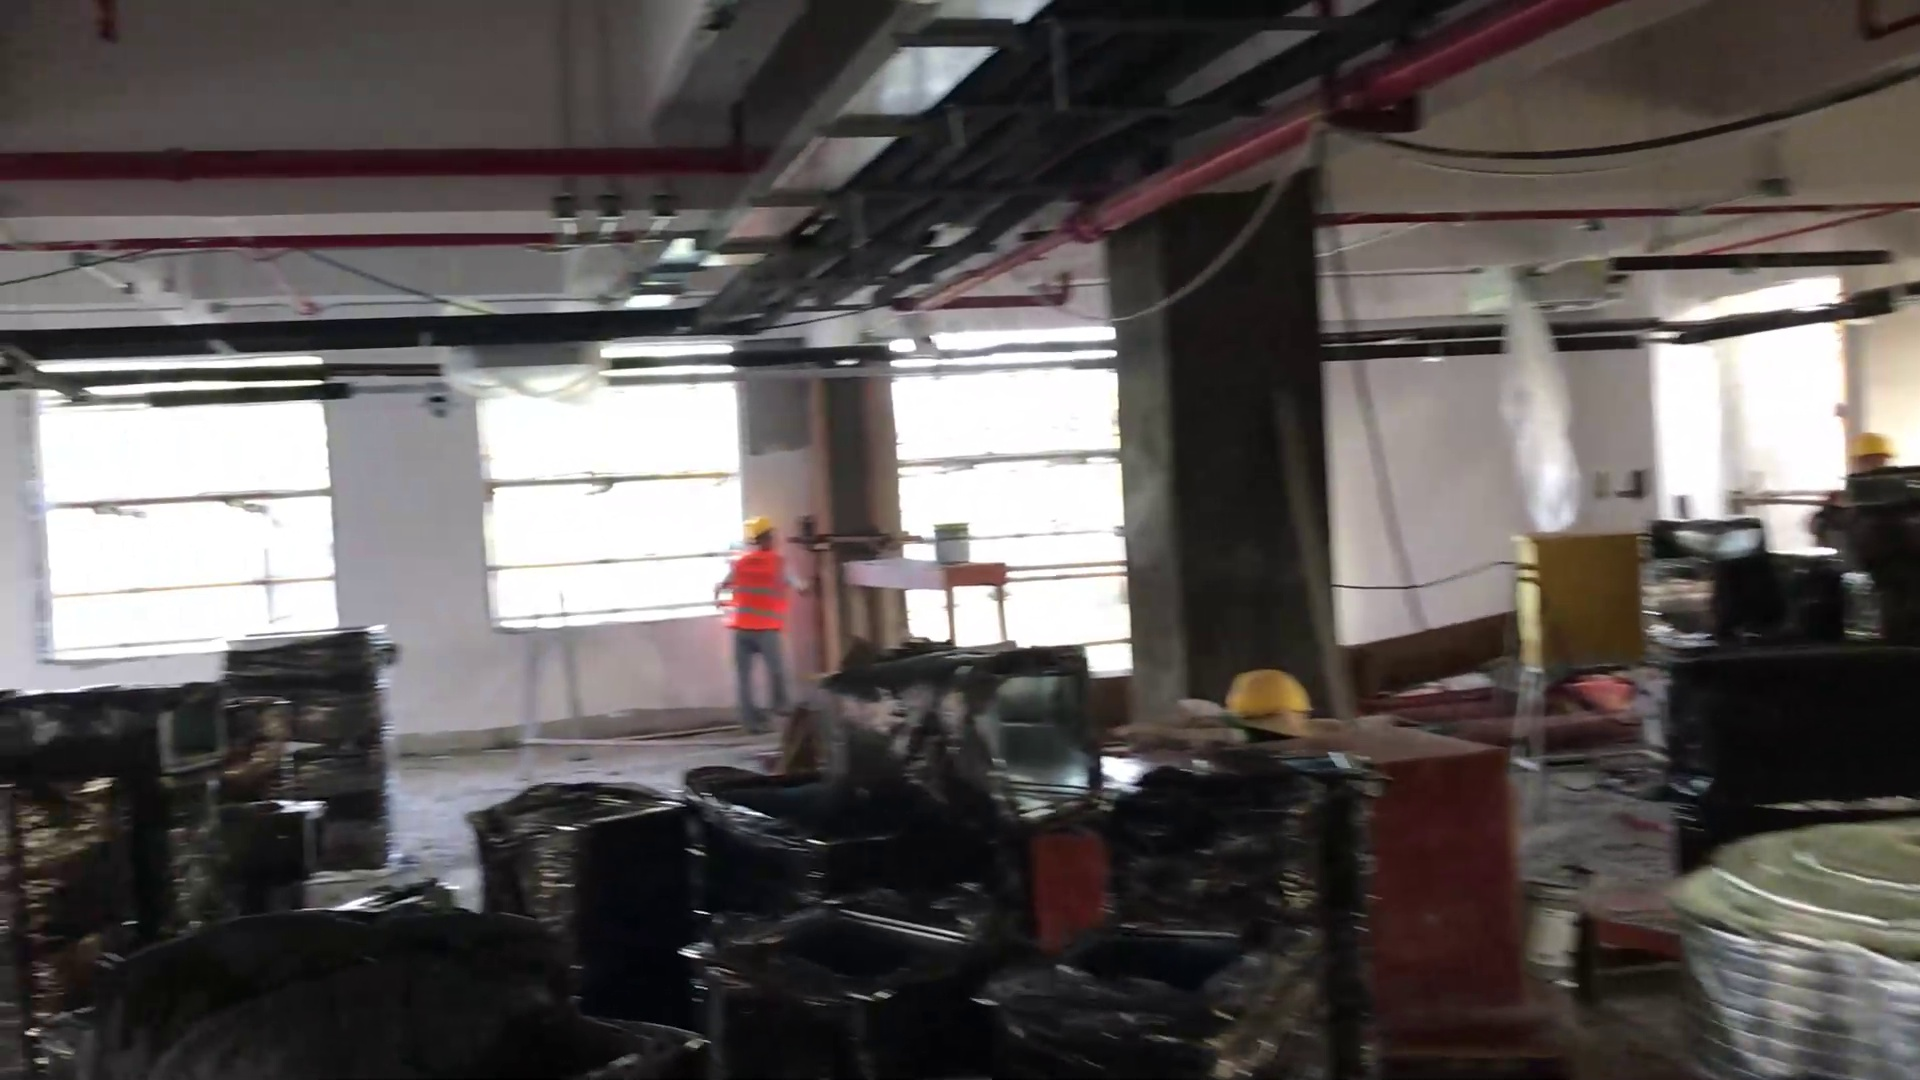ebox: (1494, 520, 1681, 795)
helmet: (1217, 666, 1309, 716), (1844, 430, 1887, 463), (741, 514, 774, 540)
person: (704, 505, 801, 715), (1817, 426, 1910, 539)
vest: (721, 553, 785, 635)
